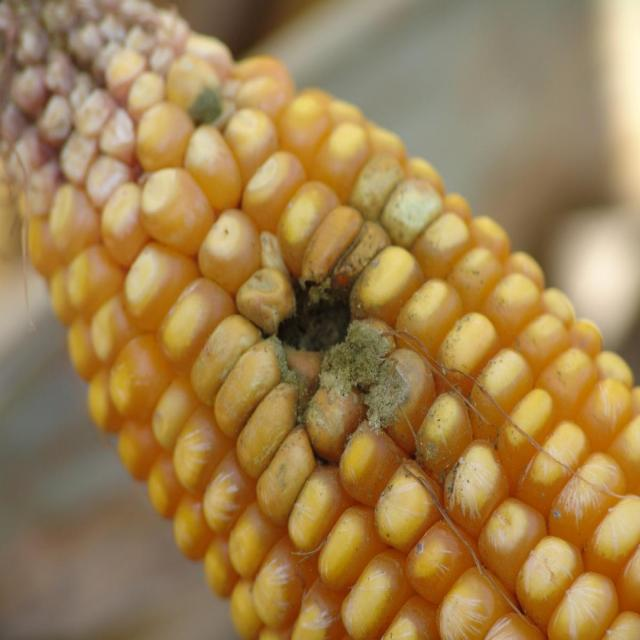Corn ear: (40, 51, 300, 496), (397, 225, 640, 640)
